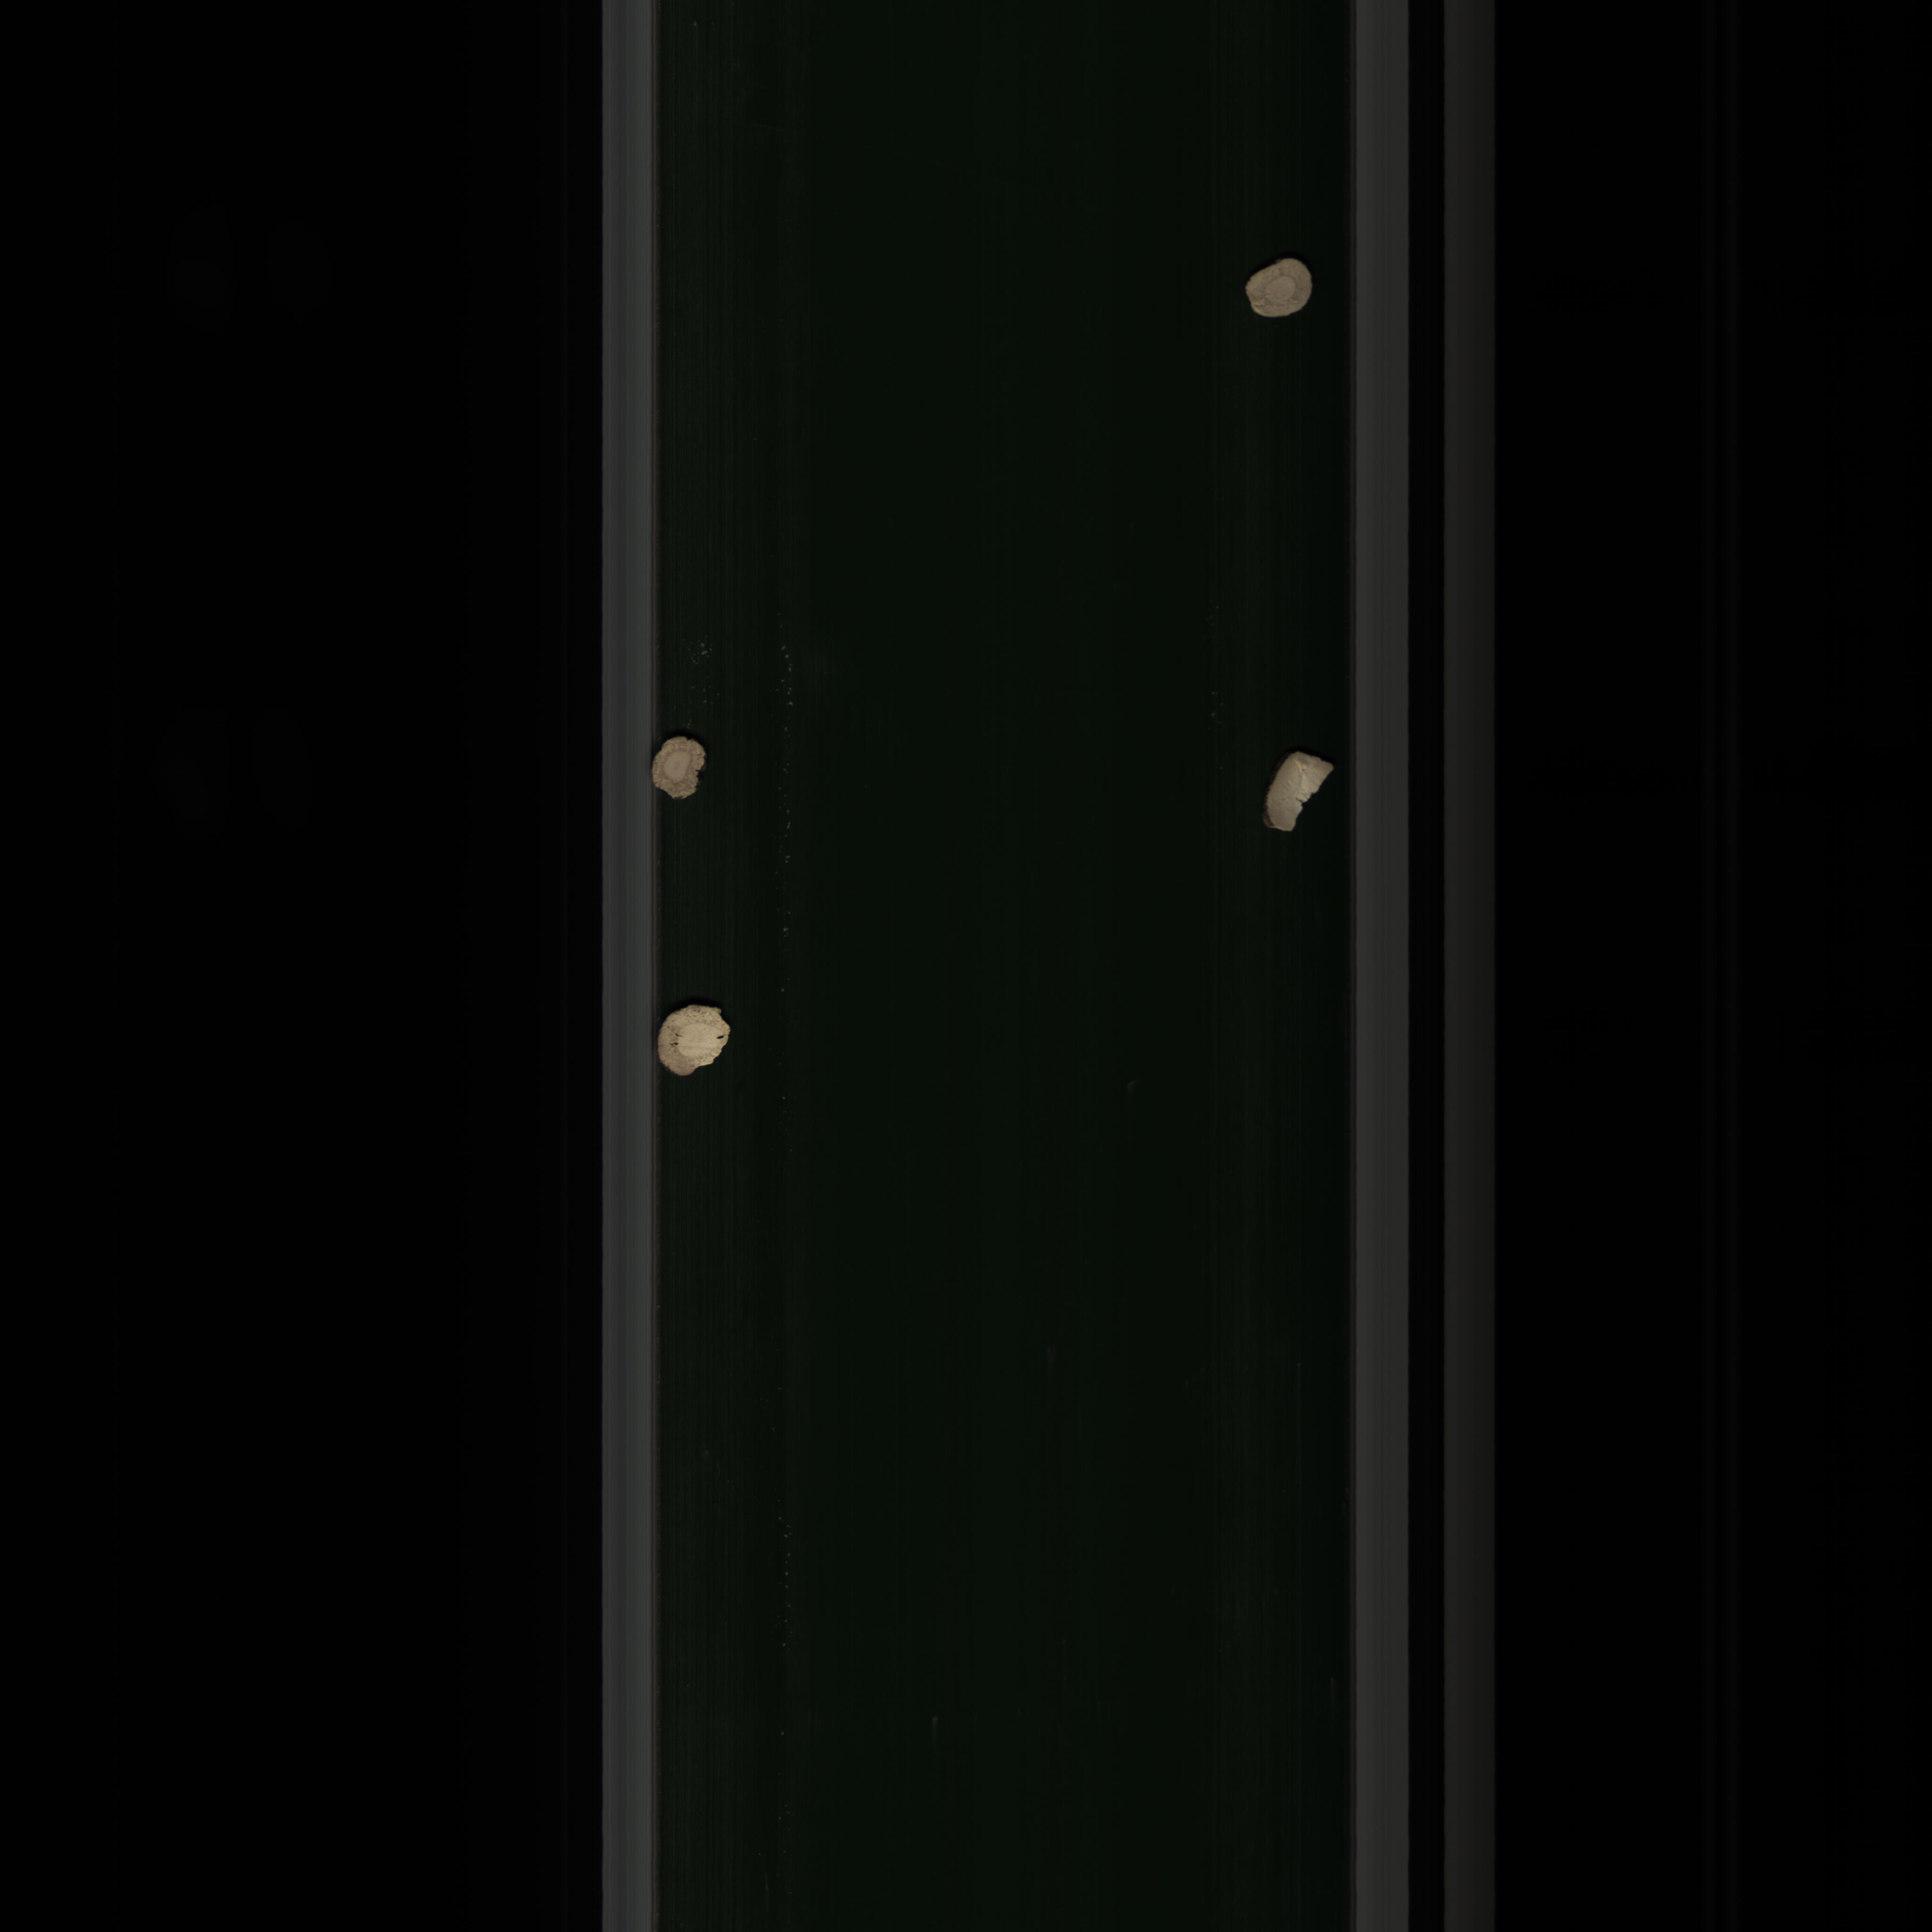debris: (1244, 750, 1346, 844), (649, 1000, 747, 1088)
